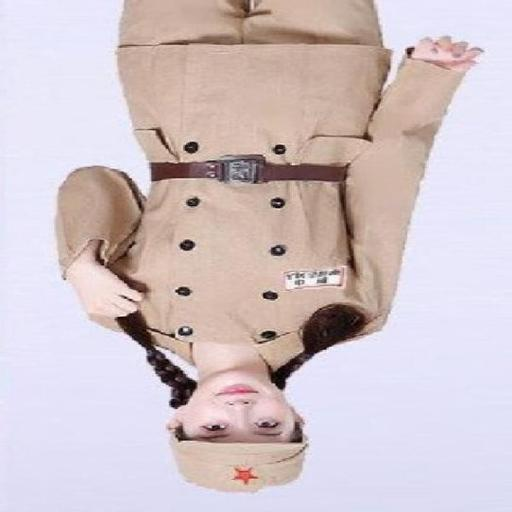north army: (99, 18, 391, 495)
